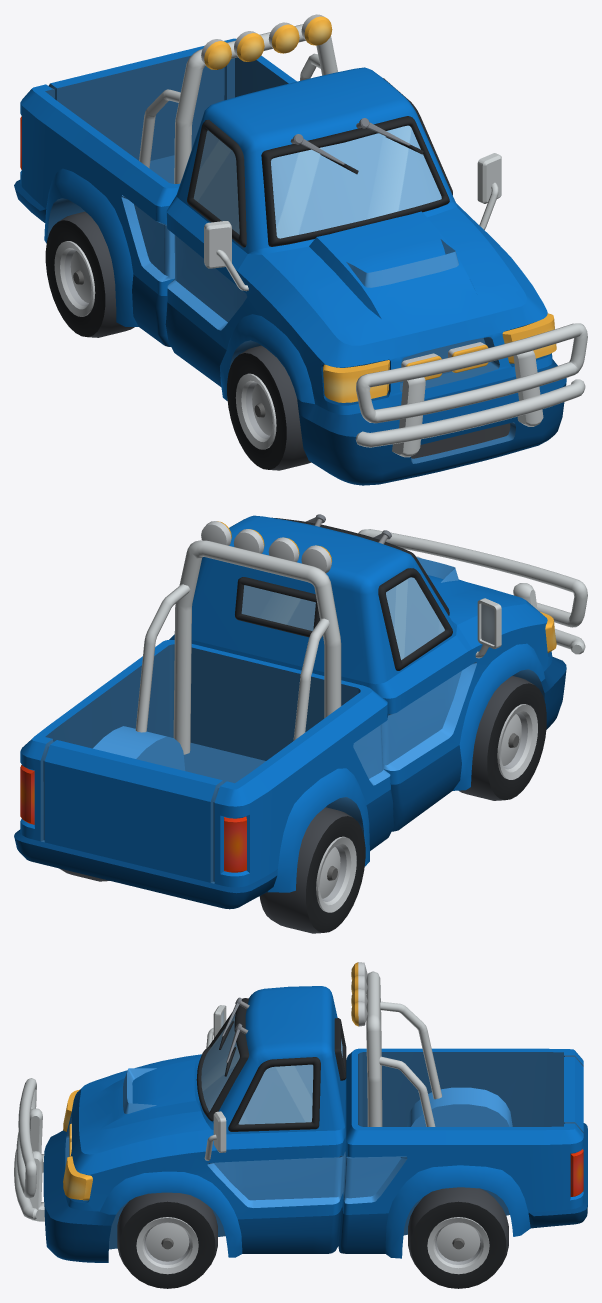
Rendered from Pickup_0_color_2.fbx.
The picture shows the model from 3 angles, top to bottom: view 1: azimuth 30°, elevation 25°; view 2: azimuth 150°, elevation 25°; view 3: azimuth 270°, elevation 25°; orthographic projection. The views are drawn at different scales.
Visible parts, largest first — view 1: Pickup_0_mesh, Pickup_0_Wheel_FR_mesh, Pickup_0_Wheel_BR_mesh; view 2: Pickup_0_mesh, Pickup_0_Wheel_BR_mesh, Pickup_0_Wheel_FR_mesh; view 3: Pickup_0_mesh, Pickup_0_Wheel_BL_mesh, Pickup_0_Wheel_FL_mesh.
Boxes of the visible parts, x1,y1,x2,y2 form: Pickup_0_mesh: [14, 14, 587, 485]; Pickup_0_Wheel_FR_mesh: [227, 345, 311, 470]; Pickup_0_Wheel_BR_mesh: [45, 211, 134, 337]; Pickup_0_mesh: [14, 514, 587, 909]; Pickup_0_Wheel_BR_mesh: [259, 807, 365, 933]; Pickup_0_Wheel_FR_mesh: [459, 676, 546, 800]; Pickup_0_mesh: [14, 962, 587, 1262]; Pickup_0_Wheel_BL_mesh: [408, 1187, 508, 1288]; Pickup_0_Wheel_FL_mesh: [117, 1192, 217, 1288].
Bounding box in the file's own units: 149 × 154 × 312.
